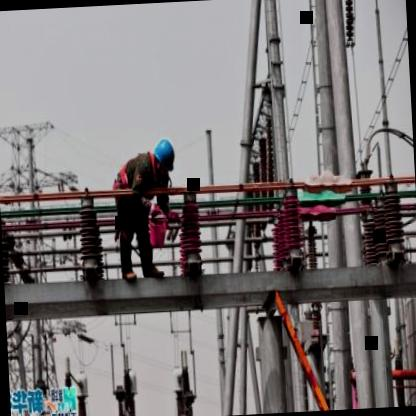helmet: (149, 134, 177, 180)
